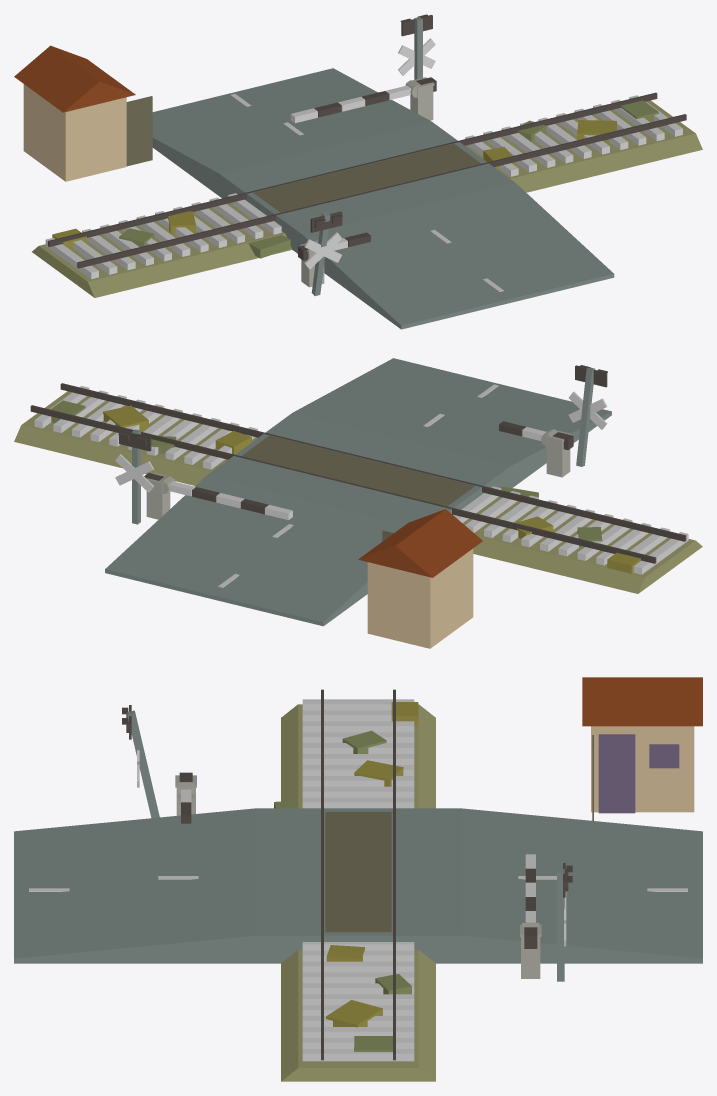
Rendered from SM_PasoNivel_90E_v2_Abandonado_LOD0.fbx.
3 renders of one model, top to bottom at view 1: azimuth 30°, elevation 25°; view 2: azimuth 150°, elevation 25°; view 3: azimuth 270°, elevation 25°, orthographic. The views are drawn at different scales.
Visible parts, largest first — view 1: SM_paso_nivel_kit_v22_LOD0, Barrera_1, Barrera_2; view 2: SM_paso_nivel_kit_v22_LOD0, Barrera_1, Barrera_2; view 3: SM_paso_nivel_kit_v22_LOD0, Barrera_1, Barrera_2.
Boxes of the visible parts, x1=… form: SM_paso_nivel_kit_v22_LOD0: x1=14, y1=14, x2=702, y2=329; Barrera_1: x1=290, y1=77, x2=436, y2=123; Barrera_2: x1=298, y1=232, x2=370, y2=260; SM_paso_nivel_kit_v22_LOD0: x1=14, y1=358, x2=702, y2=648; Barrera_1: x1=144, y1=473, x2=292, y2=519; Barrera_2: x1=499, y1=421, x2=573, y2=449; SM_paso_nivel_kit_v22_LOD0: x1=14, y1=677, x2=702, y2=1081; Barrera_1: x1=522, y1=854, x2=539, y2=948; Barrera_2: x1=177, y1=772, x2=194, y2=823.
Bounding box in the file's own units: 20 × 3.04 × 16.
